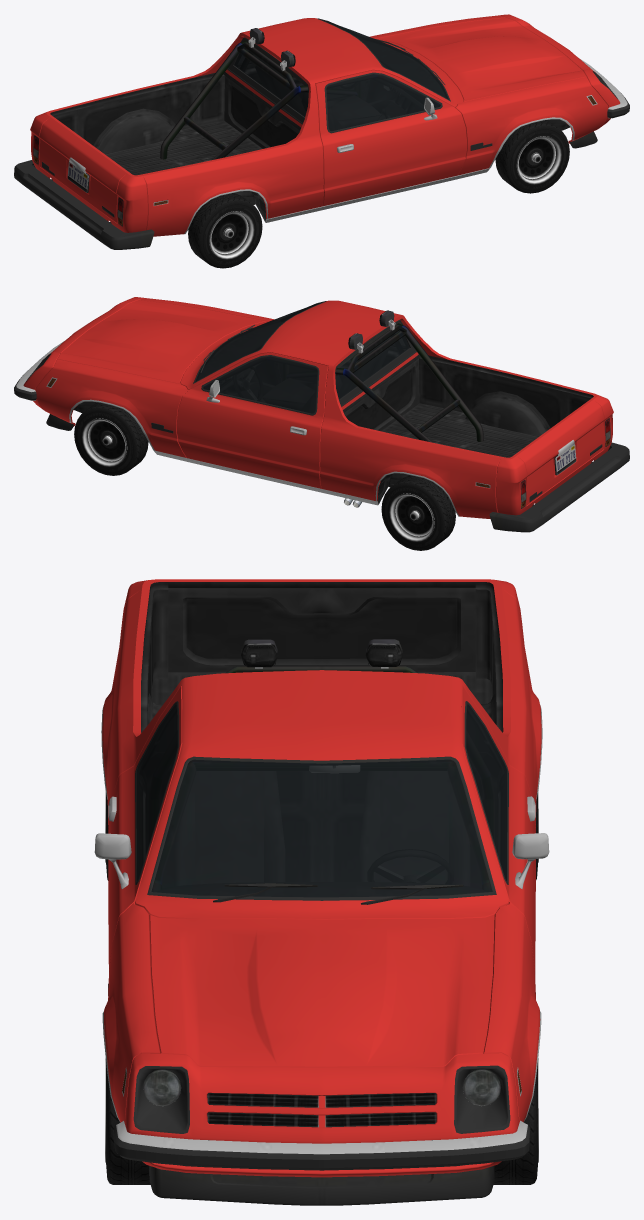
File: doutrive.glb
3 renders of one model, top to bottom at view 1: azimuth 30°, elevation 25°; view 2: azimuth 150°, elevation 25°; view 3: azimuth 270°, elevation 25°, orthographic. The views are drawn at different scales.
Parts seen in each view (by area): view 1: DOUTRIVE78_Body_DOUTRIVE78_bodymat_0, DOUTRIVE78_Bottom_UCB_BOTTOM_0, DOUTRIVE78_Hood_DOUTRIVE78_bodymat_0, DOUTRIVE78_WheelStock_RR_RB1c_Tire_1k_0, DOUTRIVE78_Interior_UCB_Interiors_1_0, DOUTRIVE78_DOOR_TRUNK_DOUTRIVE78_bodymat_0, DOUTRIVE78_WheelStock_FR_RB1c_Tire_1k_0, DOUTRIVE78_Glass_Passenger_UCB_Lights_and_Glass_Transperent_, DOUTRIVE78_Rollcage1_UCB_BOTTOM_0, DOUTRIVE78_BUMPER_REAR_UCB_BOTTOM_0, DOUTRIVE78_Windshield_UCB_Lights_and_Glass_Transperent_0, DOUTRIVE78_GLASS_REAR_UCB_Lights_and_Glass_Transperent_0 (+3 smaller); view 2: DOUTRIVE78_Body_DOUTRIVE78_bodymat_0, DOUTRIVE78_Bottom_UCB_BOTTOM_0, DOUTRIVE78_Hood_DOUTRIVE78_bodymat_0, DOUTRIVE78_WheelStock_RL_RB1c_Tire_1k_0, DOUTRIVE78_DOOR_TRUNK_DOUTRIVE78_bodymat_0, DOUTRIVE78_WheelStock_FL_RB1c_Tire_1k_0, DOUTRIVE78_Interior_UCB_Interiors_1_0, DOUTRIVE78_Glass_Driver_UCB_Lights_and_Glass_Transperent_0, DOUTRIVE78_Rollcage1_UCB_BOTTOM_0, DOUTRIVE78_BUMPER_REAR_UCB_BOTTOM_0, DOUTRIVE78_Windshield_UCB_Lights_and_Glass_Transperent_0, DOUTRIVE78_GLASS_REAR_UCB_Lights_and_Glass_Transperent_0 (+4 smaller); view 3: DOUTRIVE78_Body_DOUTRIVE78_bodymat_0, DOUTRIVE78_Bottom_UCB_BOTTOM_0, DOUTRIVE78_Hood_DOUTRIVE78_bodymat_0, DOUTRIVE78_Windshield_UCB_Lights_and_Glass_Transperent_0, DOUTRIVE78_Interior_UCB_Interiors_1_0, DOUTRIVE78_Door_trunk_inner_UCB_BOTTOM_0, DOUTRIVE78_Front_Plate_DOUTRIVE78_bodymat_0, DOUTRIVE78_BUMPER_FRONT_UCB_BOTTOM_0, DOUTRIVE78_Rollcage1_UCB_BOTTOM_0, DOUTRIVE78_Glass_Driver_UCB_Lights_and_Glass_Transperent_0, DOUTRIVE78_Glass_Passenger_UCB_Lights_and_Glass_Transperent_, DOUTRIVE78_Headlights_Glass_UCB_Lights_and_Glass_Transperent (+4 smaller).
Boxes of the visible parts, x1,y1,x2,y2 form: DOUTRIVE78_Body_DOUTRIVE78_bodymat_0: [30, 15, 608, 236]; DOUTRIVE78_Bottom_UCB_BOTTOM_0: [33, 18, 617, 234]; DOUTRIVE78_Hood_DOUTRIVE78_bodymat_0: [377, 17, 586, 101]; DOUTRIVE78_WheelStock_RR_RB1c_Tire_1k_0: [188, 193, 262, 268]; DOUTRIVE78_Interior_UCB_Interiors_1_0: [238, 40, 444, 130]; DOUTRIVE78_DOOR_TRUNK_DOUTRIVE78_bodymat_0: [39, 116, 129, 223]; DOUTRIVE78_WheelStock_FR_RB1c_Tire_1k_0: [495, 120, 569, 193]; DOUTRIVE78_Glass_Passenger_UCB_Lights_and_Glass_Transperent_: [326, 74, 440, 131]; DOUTRIVE78_Rollcage1_UCB_BOTTOM_0: [160, 28, 440, 160]; DOUTRIVE78_BUMPER_REAR_UCB_BOTTOM_0: [14, 160, 154, 249]; DOUTRIVE78_Windshield_UCB_Lights_and_Glass_Transperent_0: [322, 20, 448, 99]; DOUTRIVE78_GLASS_REAR_UCB_Lights_and_Glass_Transperent_0: [234, 48, 308, 116]; DOUTRIVE78_Body_DOUTRIVE78_bodymat_0: [35, 298, 613, 518]; DOUTRIVE78_Bottom_UCB_BOTTOM_0: [26, 301, 610, 516]; DOUTRIVE78_Hood_DOUTRIVE78_bodymat_0: [57, 300, 266, 384]; DOUTRIVE78_WheelStock_RL_RB1c_Tire_1k_0: [381, 475, 455, 550]; DOUTRIVE78_DOOR_TRUNK_DOUTRIVE78_bodymat_0: [514, 399, 604, 505]; DOUTRIVE78_WheelStock_FL_RB1c_Tire_1k_0: [74, 402, 148, 475]; DOUTRIVE78_Interior_UCB_Interiors_1_0: [199, 322, 404, 412]; DOUTRIVE78_Glass_Driver_UCB_Lights_and_Glass_Transperent_0: [203, 356, 317, 413]; DOUTRIVE78_Rollcage1_UCB_BOTTOM_0: [204, 310, 483, 442]; DOUTRIVE78_BUMPER_REAR_UCB_BOTTOM_0: [489, 442, 629, 532]; DOUTRIVE78_Windshield_UCB_Lights_and_Glass_Transperent_0: [195, 302, 322, 381]; DOUTRIVE78_GLASS_REAR_UCB_Lights_and_Glass_Transperent_0: [335, 331, 409, 399]; DOUTRIVE78_Body_DOUTRIVE78_bodymat_0: [102, 579, 541, 1123]; DOUTRIVE78_Bottom_UCB_BOTTOM_0: [94, 582, 549, 1205]; DOUTRIVE78_Hood_DOUTRIVE78_bodymat_0: [149, 914, 494, 1067]; DOUTRIVE78_Windshield_UCB_Lights_and_Glass_Transperent_0: [151, 759, 492, 897]; DOUTRIVE78_Interior_UCB_Interiors_1_0: [140, 765, 503, 896]; DOUTRIVE78_Door_trunk_inner_UCB_BOTTOM_0: [168, 582, 475, 672]; DOUTRIVE78_Front_Plate_DOUTRIVE78_bodymat_0: [125, 1053, 519, 1177]; DOUTRIVE78_BUMPER_FRONT_UCB_BOTTOM_0: [113, 1120, 530, 1170]; DOUTRIVE78_Rollcage1_UCB_BOTTOM_0: [149, 639, 494, 891]; DOUTRIVE78_Glass_Driver_UCB_Lights_and_Glass_Transperent_0: [466, 704, 507, 880]; DOUTRIVE78_Glass_Passenger_UCB_Lights_and_Glass_Transperent_: [136, 704, 177, 881]; DOUTRIVE78_Headlights_Glass_UCB_Lights_and_Glass_Transperent: [143, 1069, 501, 1106].
Bounding box in the file's own units: 4.7 × 1.39 × 1.75.
7 materials, 6 textured.
